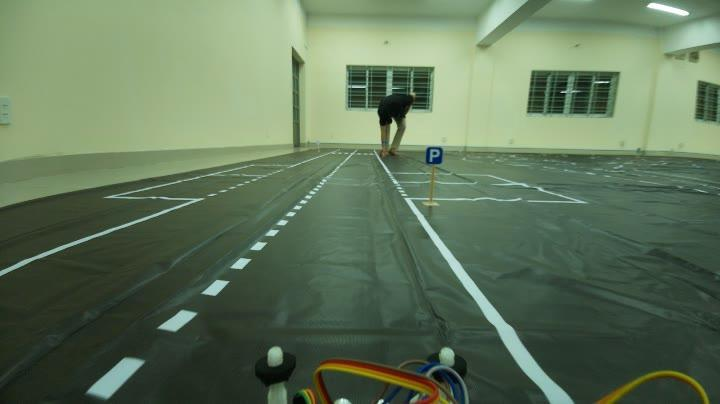parking: (422, 144, 444, 169)
